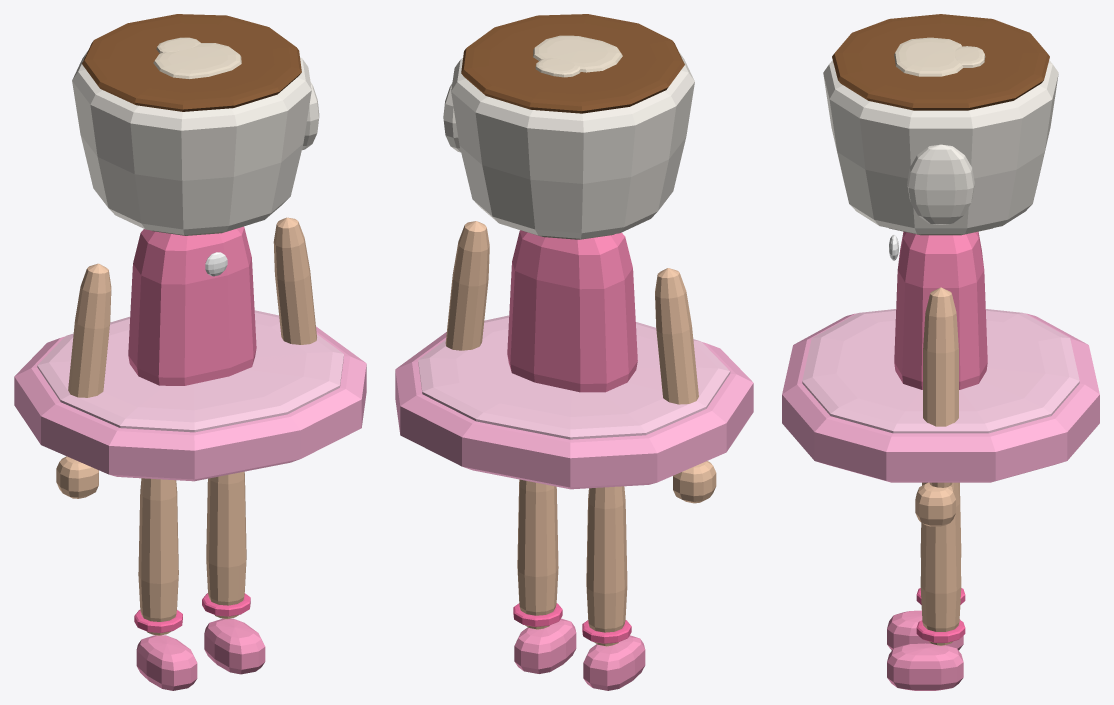
File: br-ballerina.glb
3 views of the same model, side by side, from view 1: azimuth 30°, elevation 25°; view 2: azimuth 150°, elevation 25°; view 3: azimuth 270°, elevation 25° (orthographic).
Parts seen in each view (by area): view 1: torso, head, leg-right, leg-left, arm-right, arm-left; view 2: torso, head, leg-right, leg-left, arm-right, arm-left; view 3: torso, head, leg-left, arm-left, leg-right.
Part boxes in pixels (box(x1,y1,x2,y2)): torso: box(14, 226, 366, 481); head: box(72, 14, 319, 235); leg-right: box(134, 478, 197, 690); leg-left: box(202, 471, 265, 674); arm-right: box(56, 263, 111, 498); arm-left: box(273, 217, 316, 344); torso: box(395, 230, 753, 489); head: box(443, 14, 694, 239); leg-right: box(582, 486, 645, 690); leg-left: box(513, 479, 576, 673); arm-right: box(655, 268, 716, 503); arm-left: box(445, 221, 489, 350); torso: box(782, 231, 1099, 482); head: box(823, 14, 1058, 235); leg-left: box(887, 482, 965, 690); arm-left: box(915, 287, 958, 526); leg-right: box(887, 482, 965, 650).
Size of the model in its own units: 1.32 by 2.59 by 1.22.
